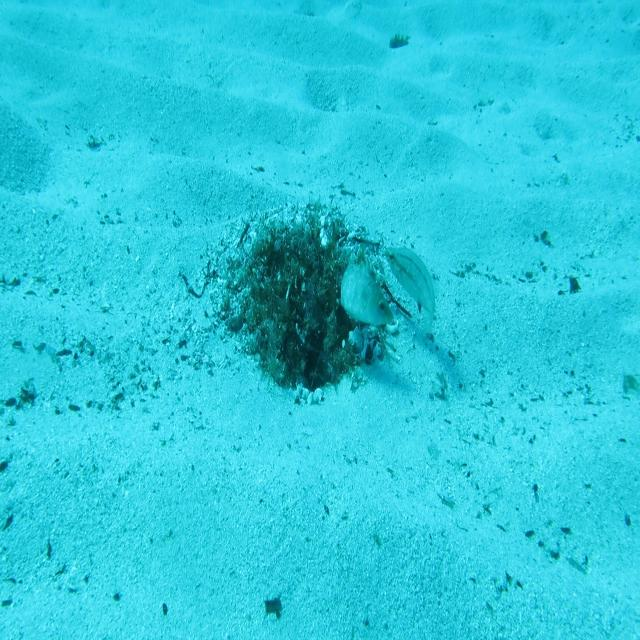DAN_CIRC: (336, 252, 394, 328)
core_nest: (292, 241, 332, 280)
female: (384, 245, 436, 339)
nest: (203, 193, 402, 414)
